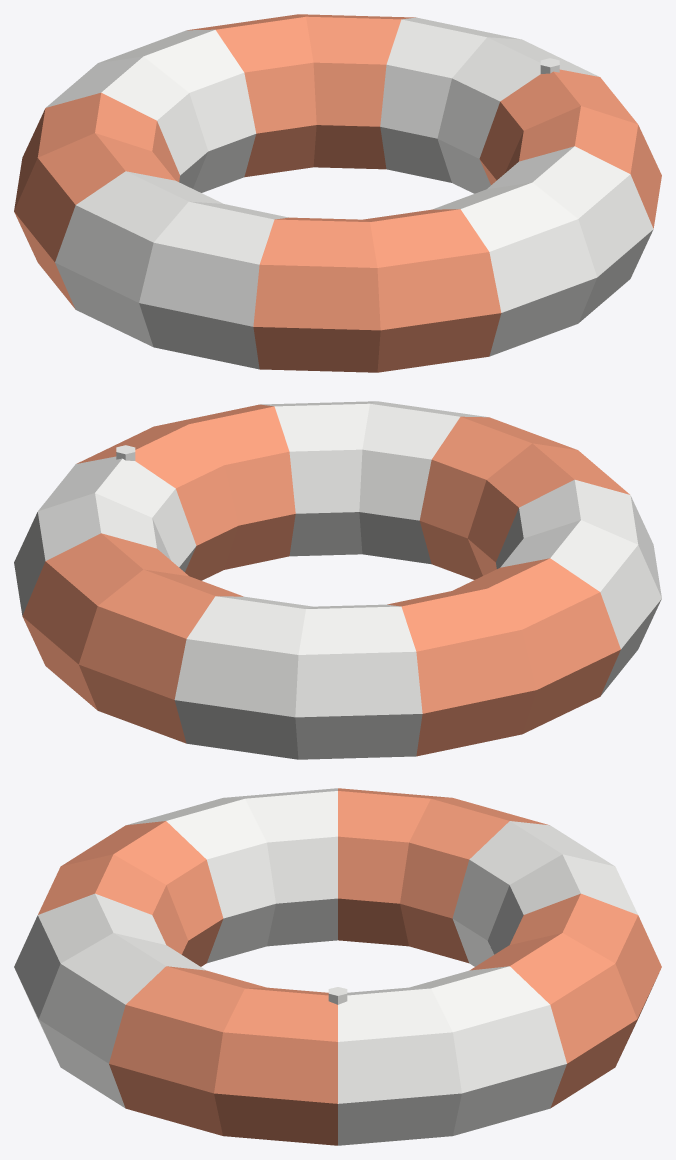
Rendered from pool_ring.glb.
3 renders of one model, top to bottom at view 1: azimuth 30°, elevation 25°; view 2: azimuth 150°, elevation 25°; view 3: azimuth 270°, elevation 25°, orthographic.
Size of the model in its own units: 1.2 by 0.31 by 1.2.
